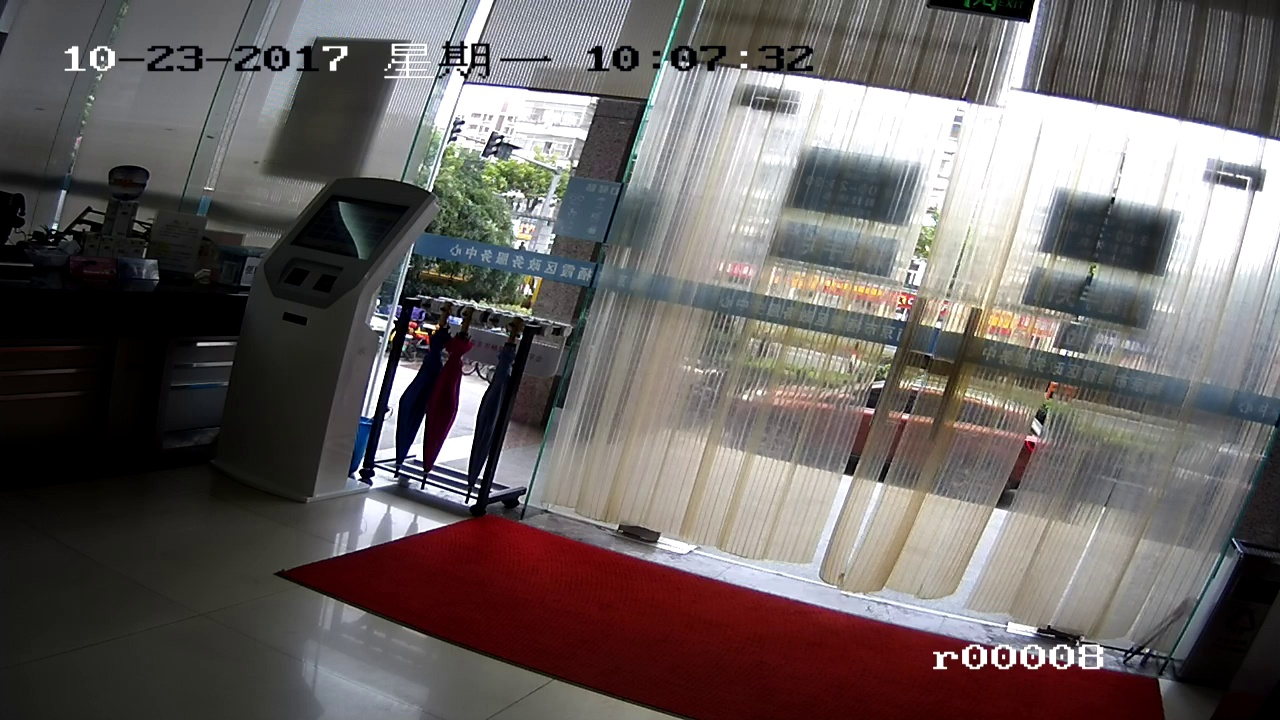monitor: (290, 189, 395, 268)
